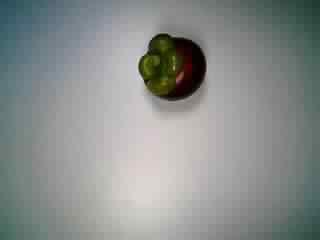mangosteen: (128, 29, 212, 106)
